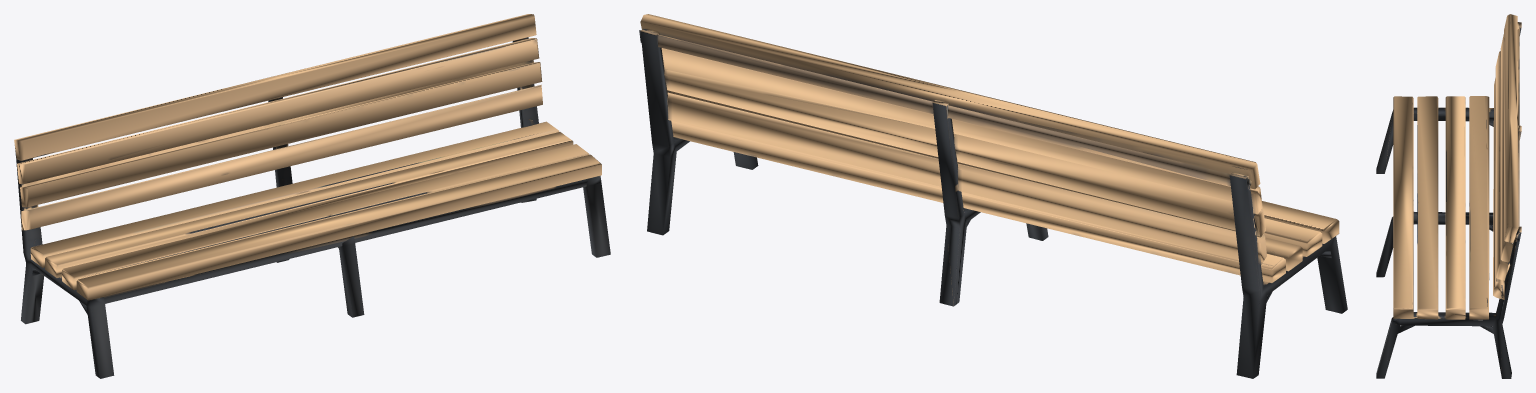
File: outdoor_bench.fbx
3 renders of one model, left to right at view 1: azimuth 30°, elevation 25°; view 2: azimuth 150°, elevation 25°; view 3: azimuth 270°, elevation 25°, orthographic. The views are drawn at different scales.
Parts seen in each view (by area): view 1: Mesh_0; view 2: Mesh_0; view 3: Mesh_0.
Part boxes in pixels (box(x1,y1,x2,y2)): Mesh_0: box(14, 14, 610, 378); Mesh_0: box(639, 14, 1347, 378); Mesh_0: box(1376, 14, 1521, 378).
Bounding box in the file's own units: 95.75 × 32.18 × 27.64.
Materials: 1 (1 with a texture image).
